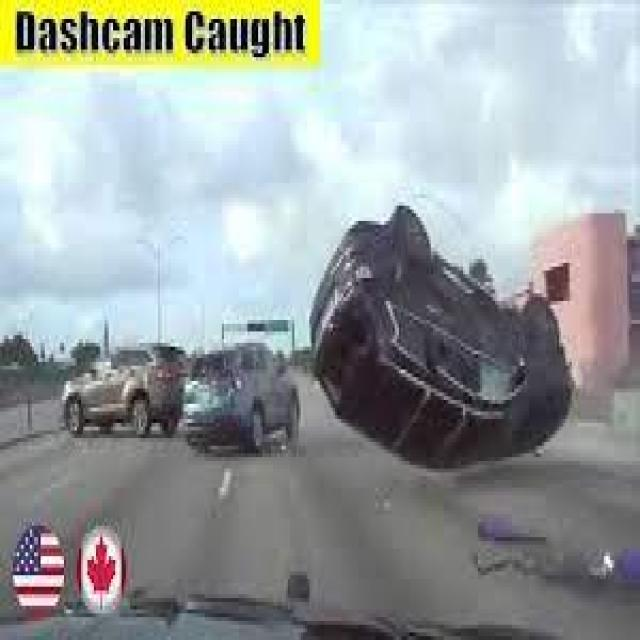severe: (304, 188, 577, 471)
